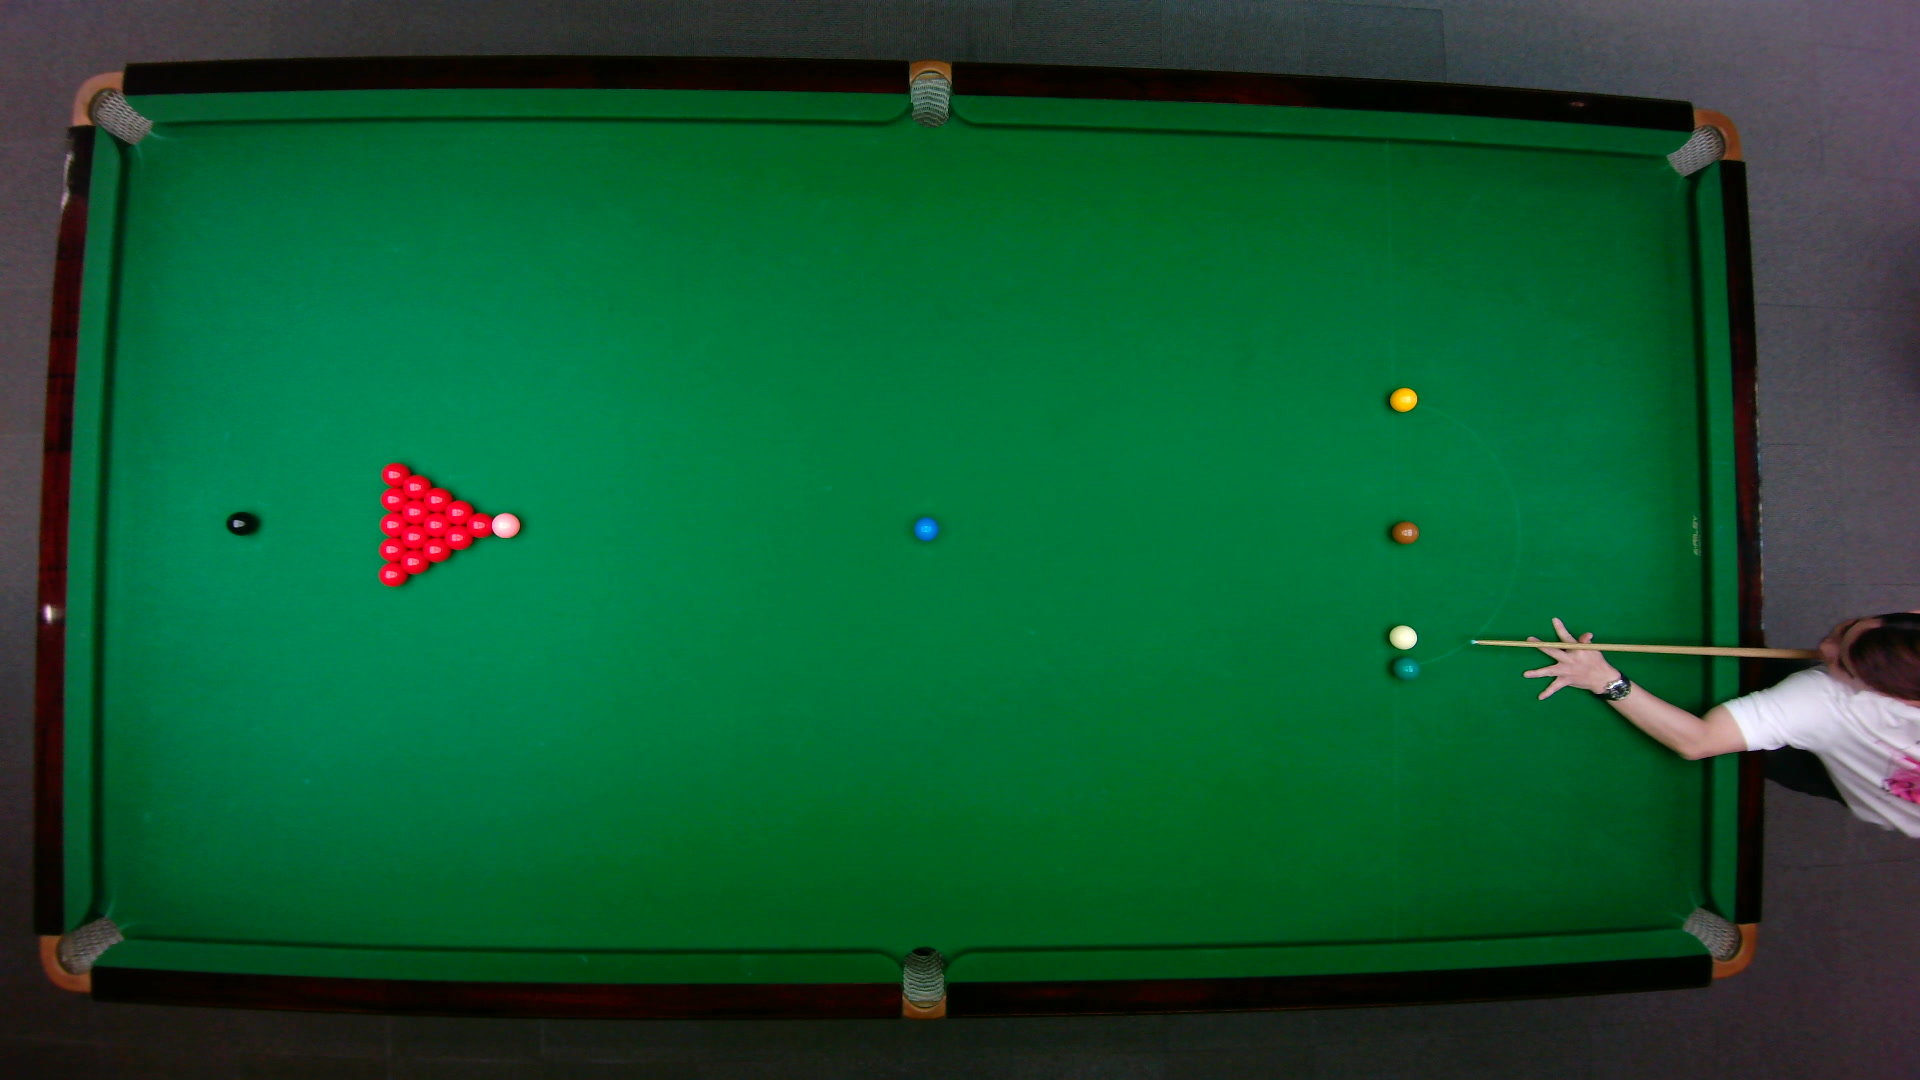bag: (38, 914, 125, 992), (70, 70, 156, 146), (1680, 906, 1758, 978), (1664, 108, 1743, 178), (902, 945, 945, 1021), (909, 58, 951, 129)
black: (224, 509, 257, 537)
blue: (913, 516, 942, 543)
brown: (1389, 520, 1422, 546)
cue: (1469, 637, 1822, 661)
green: (1390, 655, 1422, 682)
pink: (491, 512, 522, 541)
red: (377, 562, 411, 589), (378, 462, 413, 488), (444, 498, 476, 526), (401, 473, 434, 500), (400, 550, 433, 576), (465, 512, 495, 541), (423, 487, 455, 513), (422, 538, 454, 564), (378, 512, 410, 537), (443, 526, 475, 551), (377, 537, 409, 562), (401, 500, 433, 525), (378, 488, 411, 512), (422, 513, 452, 538), (400, 525, 430, 550)
white: (1387, 622, 1419, 651)
yellow: (1389, 386, 1420, 414)
zone: (1389, 396, 1519, 665)
